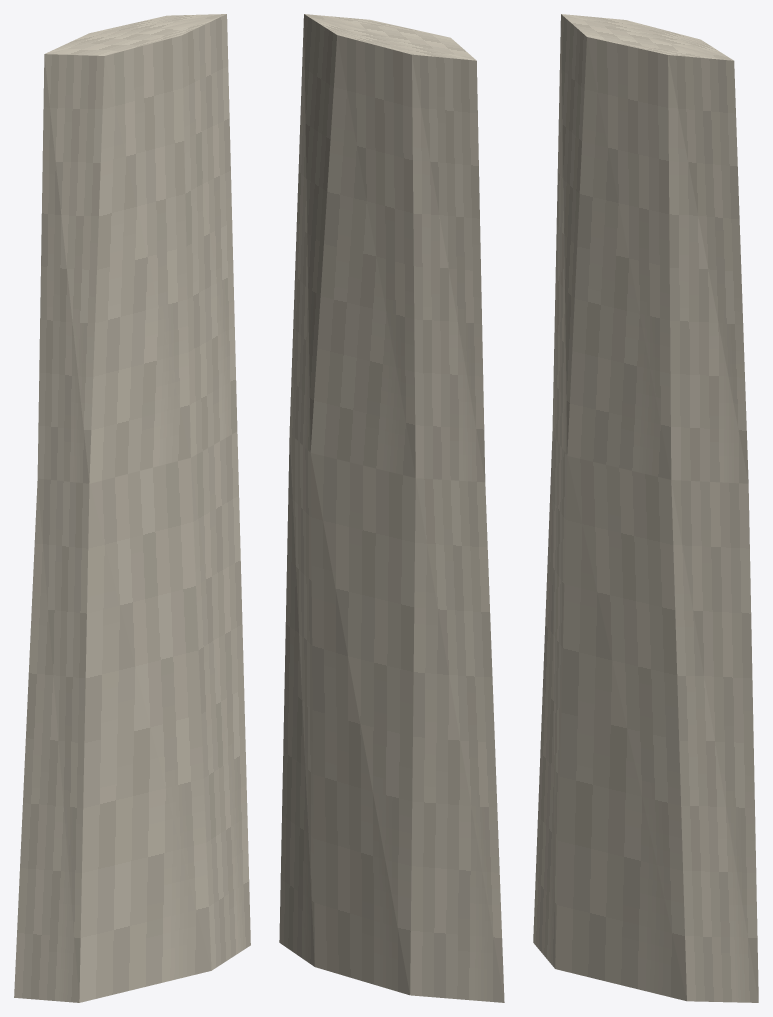
Rendered from cave-and-crystal-networks-selenite-spire-443ec204.glb.
3 views of the same model, side by side, from view 1: azimuth 30°, elevation 25°; view 2: azimuth 150°, elevation 25°; view 3: azimuth 330°, elevation 25° (orthographic).
Parts seen in each view (by area): view 1: selenite-spire; view 2: selenite-spire; view 3: selenite-spire.
Boxes of the visible parts, x1=… form: selenite-spire: x1=14, y1=14, x2=250, y2=1002; selenite-spire: x1=279, y1=14, x2=504, y2=1002; selenite-spire: x1=533, y1=14, x2=758, y2=1002.
Bounding box in the file's own units: 0.5164 × 2 × 0.1455.
Materials: 1 (1 with a texture image).
